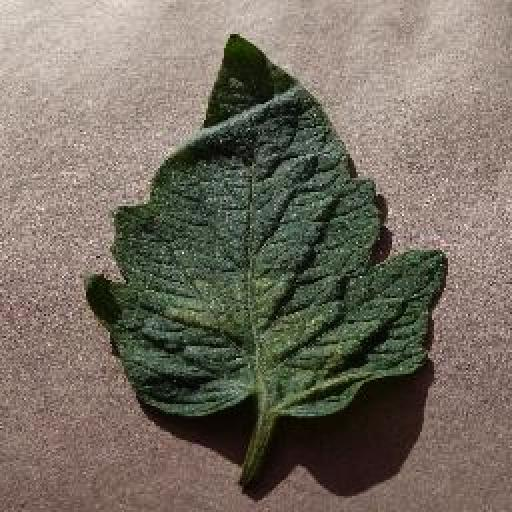disease_tomato: (87, 30, 445, 420)
